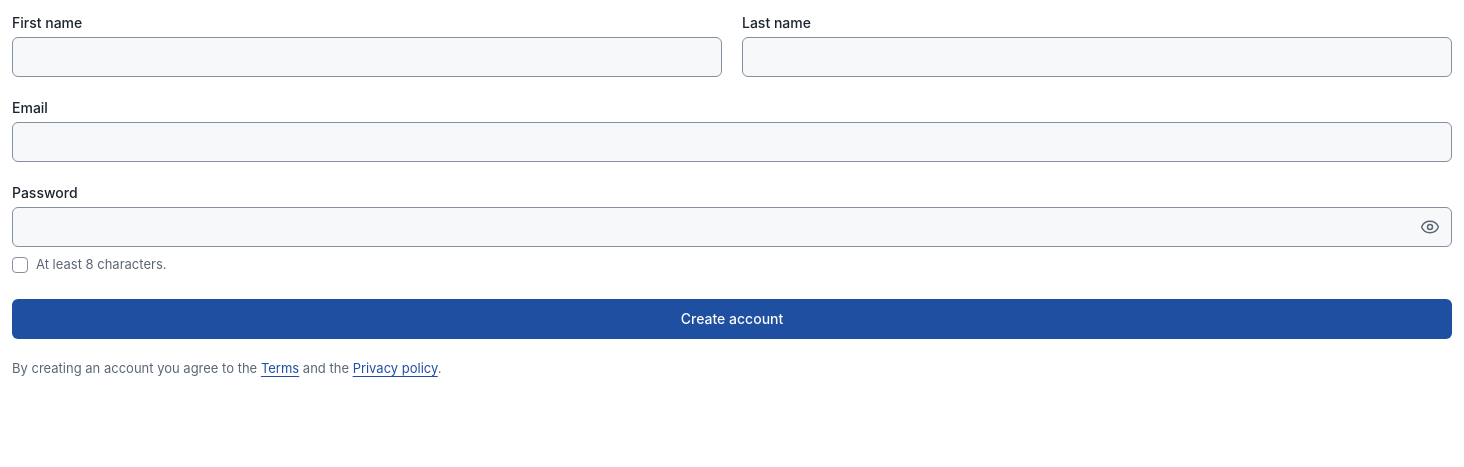
Test: signup form › tells a person who already has an account to sign in
The image size is (1464, 467).
In the field labelled "First name": (367, 57) [12,37,722,77], type "Sam"
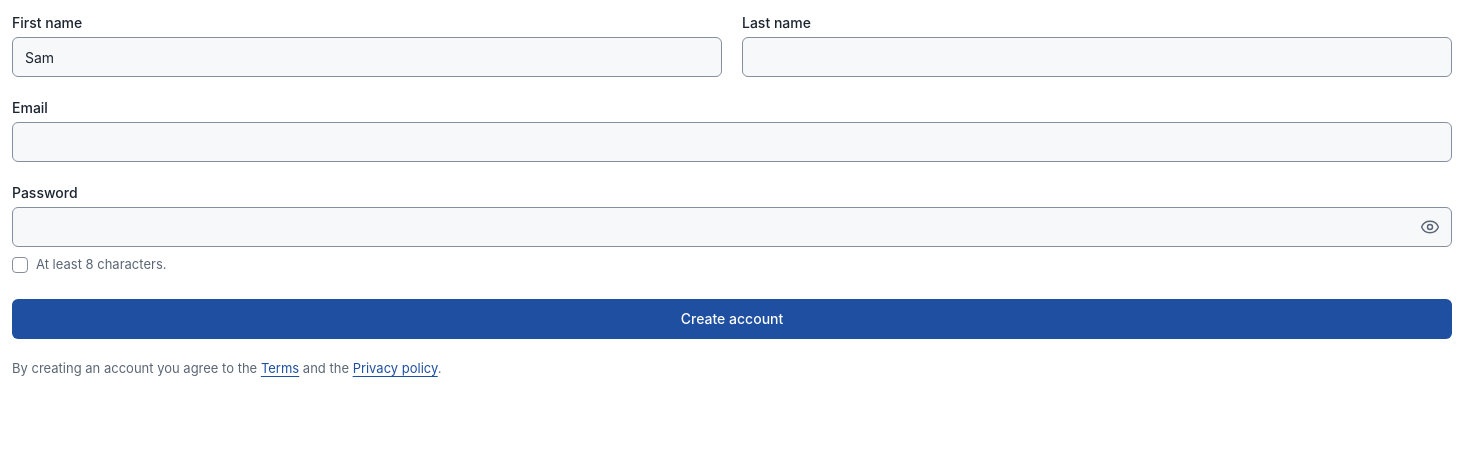
In the field labelled "Last name": (1097, 57) [742,37,1452,77], type "Doe"
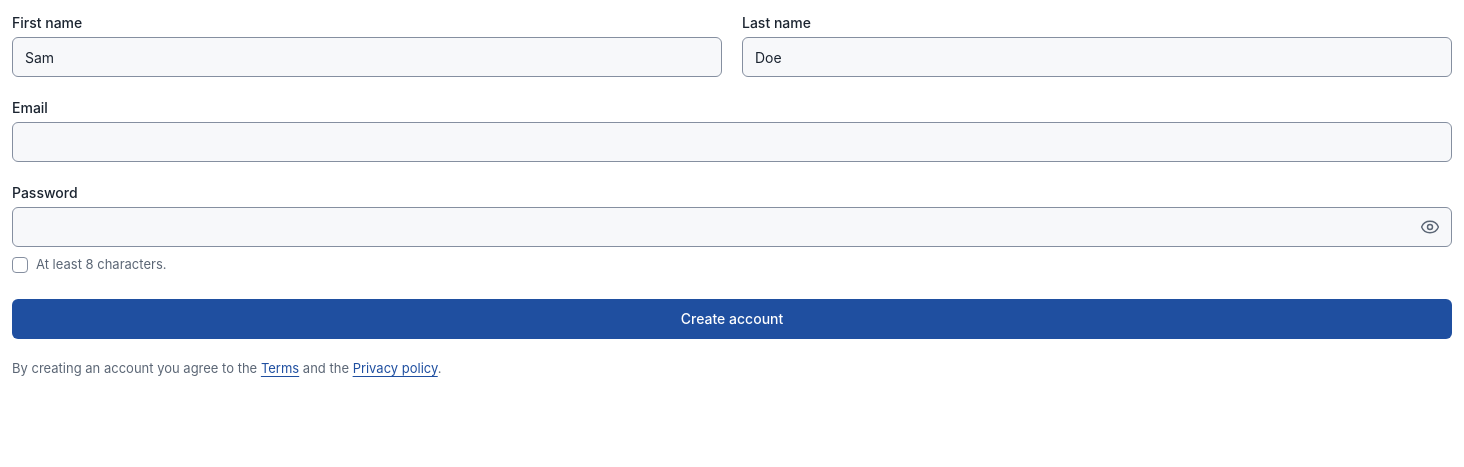
In the field labelled "Email": (732, 142) [12,122,1452,162], type "a@b.co"
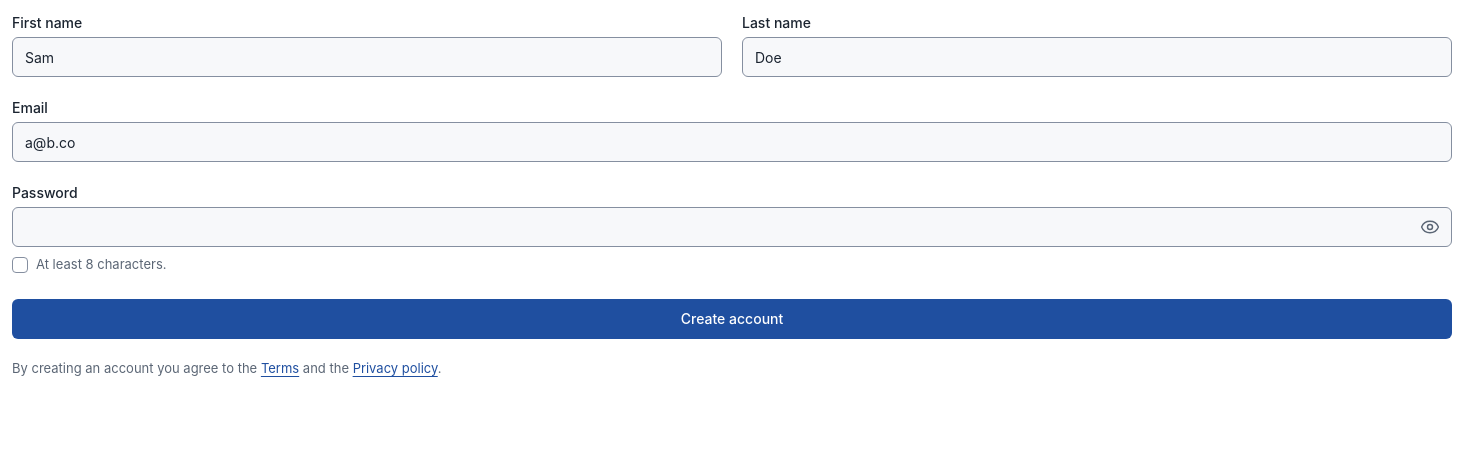
In the password field labelled "Password": (732, 227) [12,207,1452,247], type "12345678"
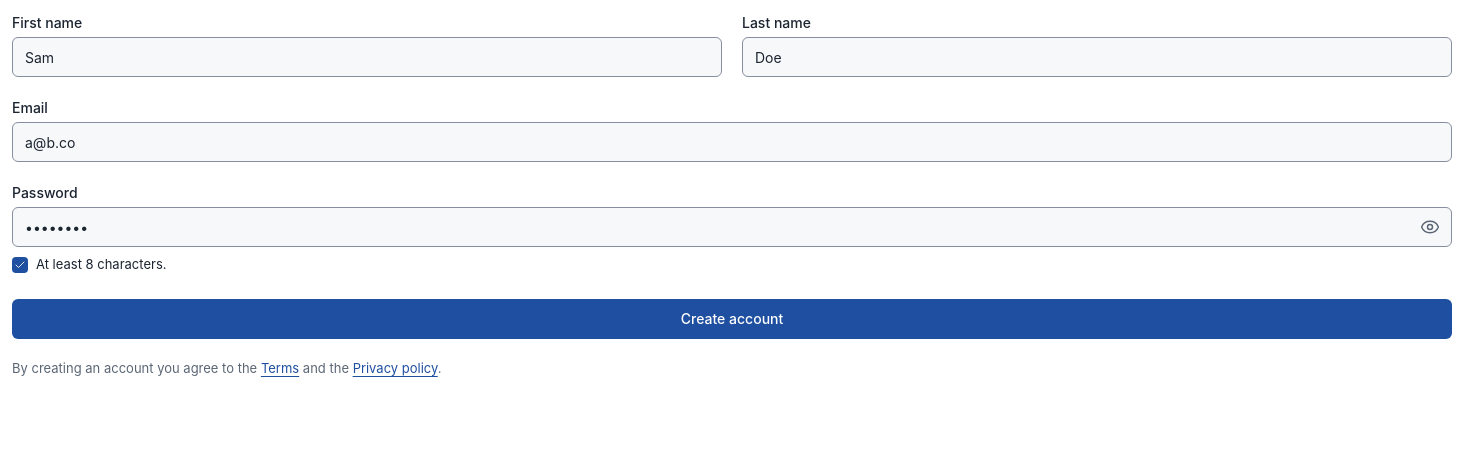
Click the button "Create account": (732, 318) [12,298,1452,338]
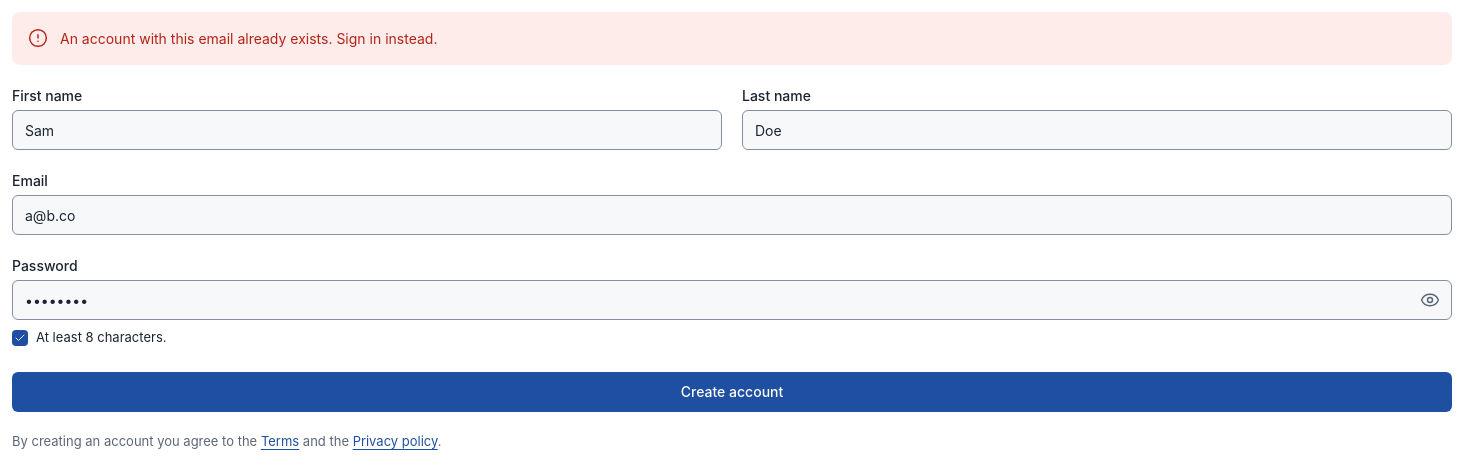
Expected: the text "An account with this email already exists. Sign in instead." is shown, [60,28,437,49]
